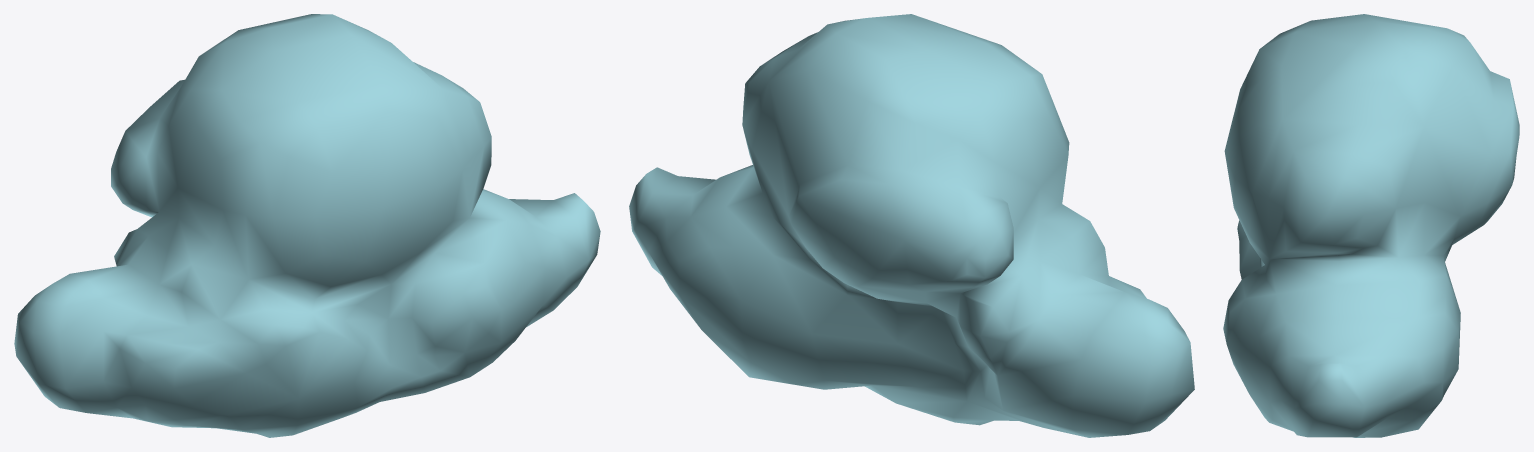
The model's file is SM_Clouds_01.FBX.
The picture shows the model from 3 angles, left to right: view 1: azimuth 30°, elevation 25°; view 2: azimuth 150°, elevation 25°; view 3: azimuth 270°, elevation 25°; orthographic projection. The views are drawn at different scales.
Parts seen in each view (by area): view 1: OBJ_Clouds_01; view 2: OBJ_Clouds_01; view 3: OBJ_Clouds_01.
Boxes of the visible parts, x1=… form: OBJ_Clouds_01: x1=14, y1=14, x2=600, y2=437; OBJ_Clouds_01: x1=629, y1=14, x2=1194, y2=437; OBJ_Clouds_01: x1=1223, y1=14, x2=1519, y2=437.
Size of the model in its own units: 148 by 97.07 by 68.93.
